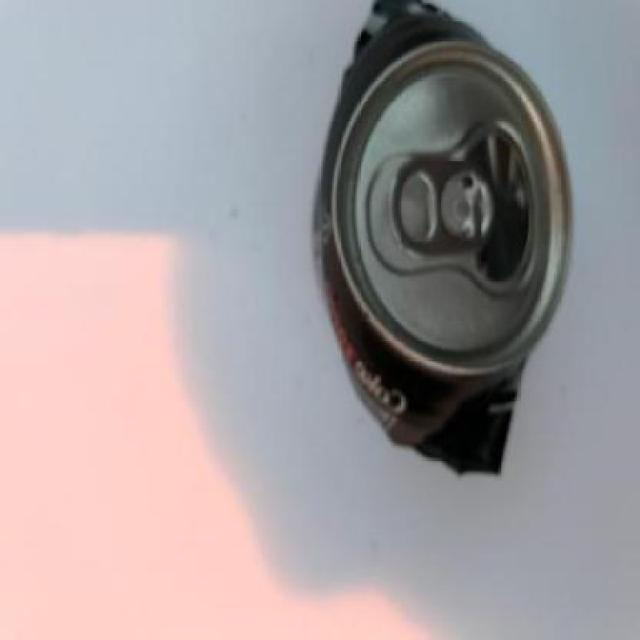METAL: (311, 2, 572, 480)
